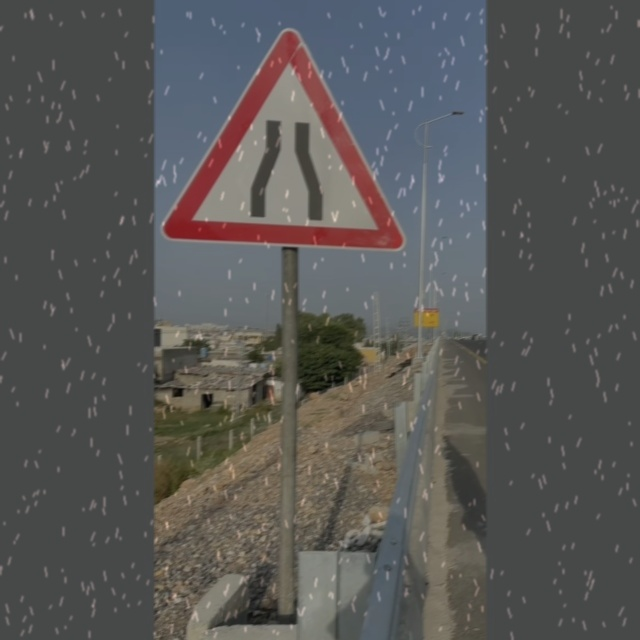Narrow_Road_Ahead: (178, 28, 405, 251)
